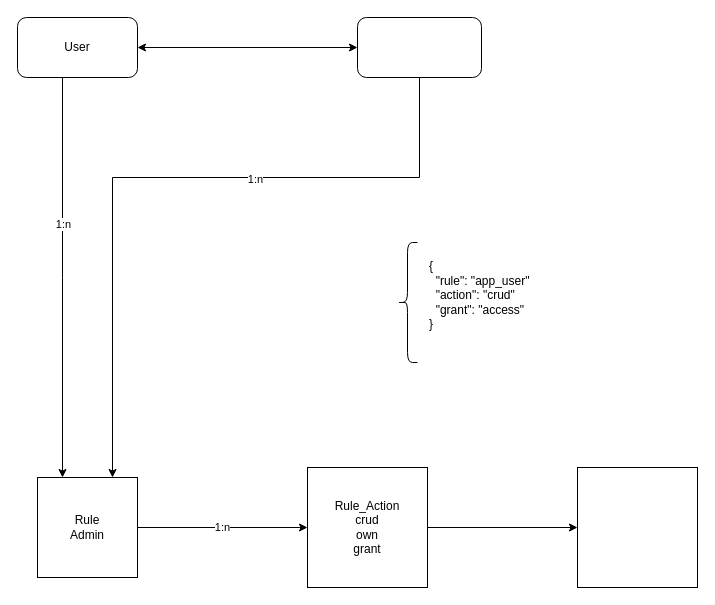
Some shapes in this 715 by 605 pixel diagram are drawn without their labels. Here are the shapes that lost their labels. From the top down, the centre of each, then its label:
At (419,47): "Group".
At (637,527): "Rule_Resource app_user".
